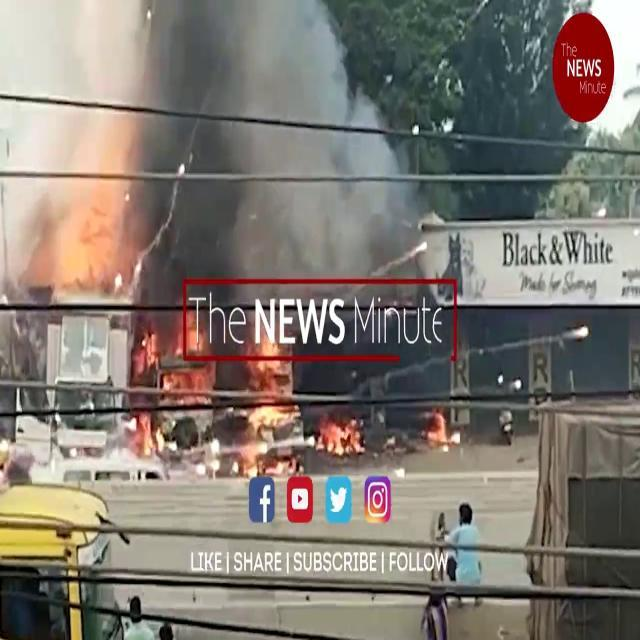Fire: (12, 136, 146, 296), (226, 292, 310, 482)
Smoke: (4, 0, 418, 284)
